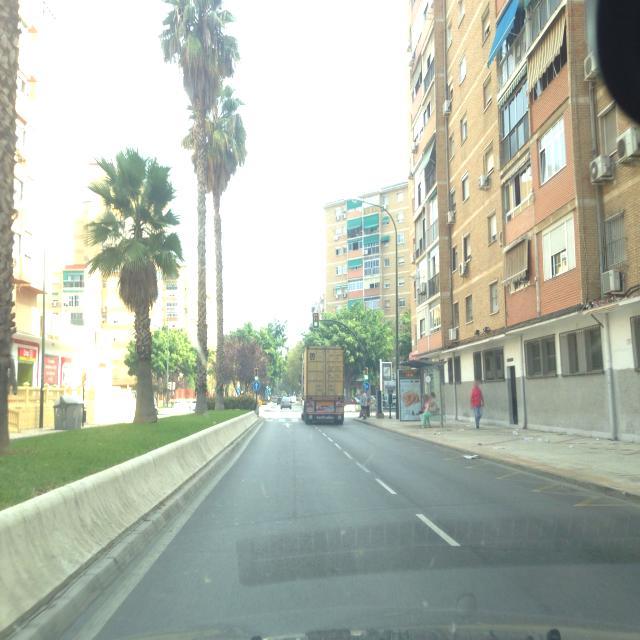car: (280, 396, 292, 411)
